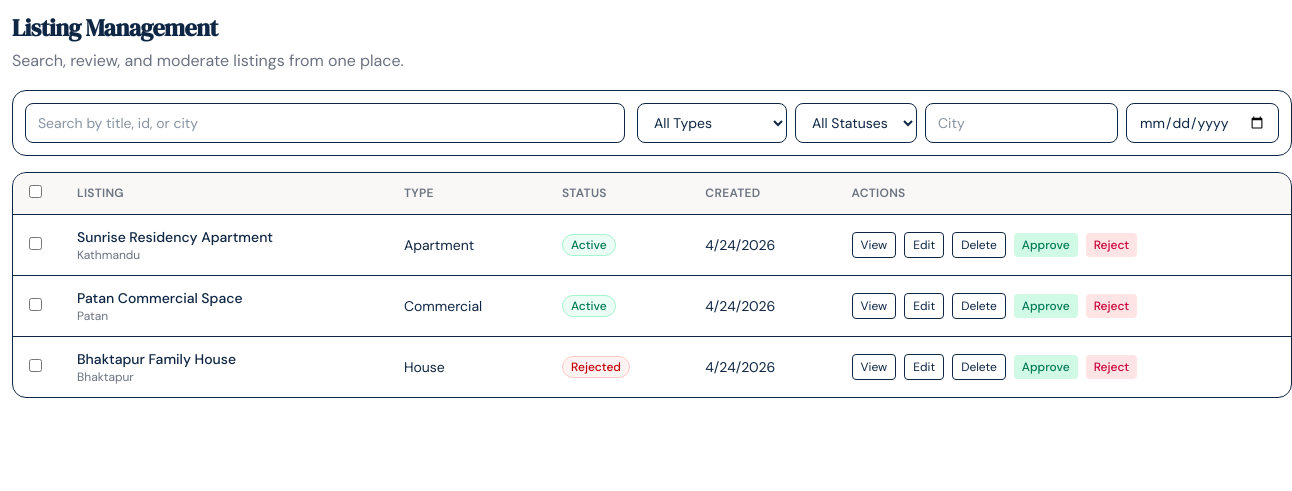
admin listings bulk actions › clears hidden-row selection when filters change
Click the checkbox named "select listing l1" at {"x": 36, "y": 243}, box left=29, top=237, right=42, bottom=250
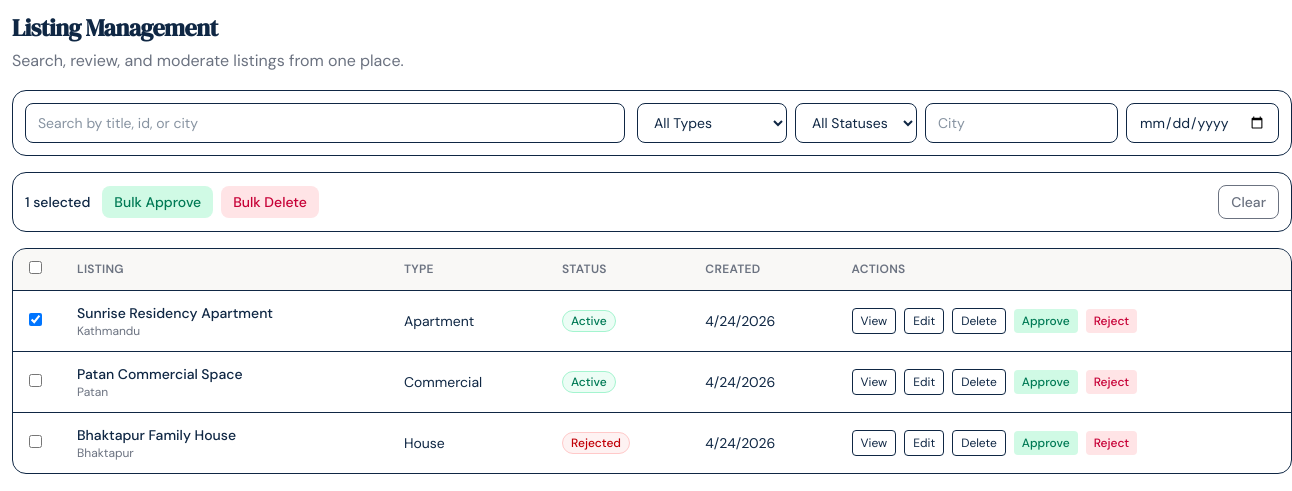
Check: the checkbox named "select listing l1" is checked, box left=29, top=313, right=42, bottom=326
Select "rejected" in the dropdown named "filter by status" at {"x": 856, "y": 123}, box left=795, top=103, right=917, bottom=143
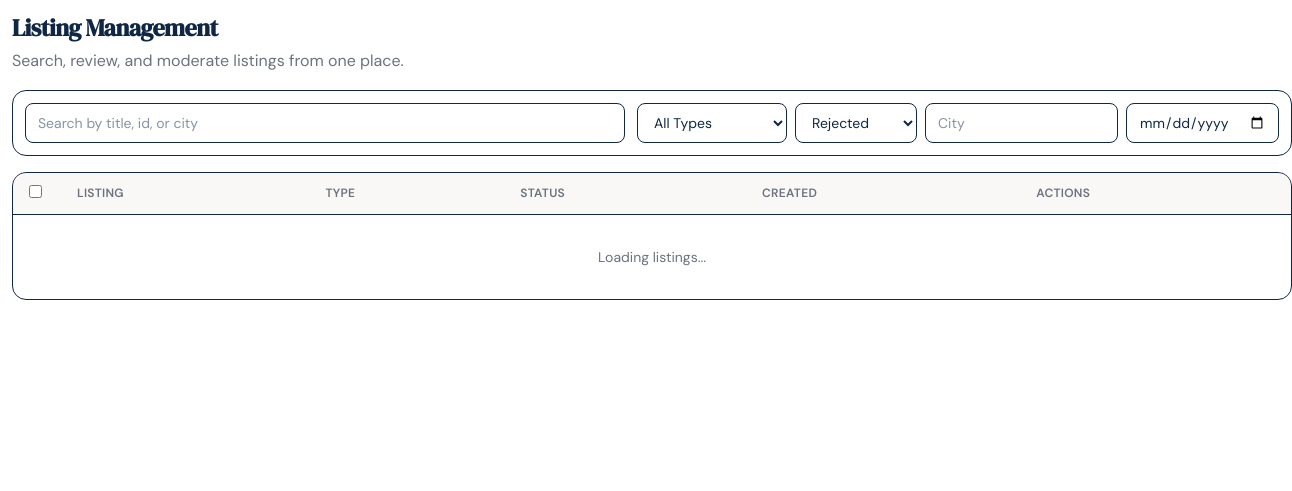
Check: the button "Bulk Approve" is gone
Select "All Statuses" in the dropdown named "filter by status" at {"x": 856, "y": 123}, box left=795, top=103, right=917, bottom=143
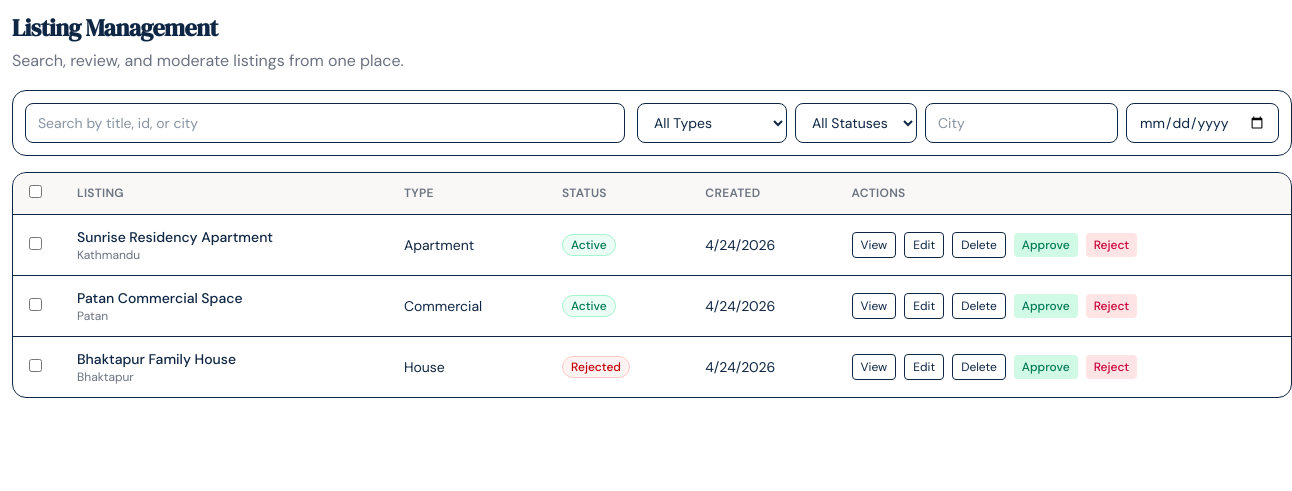
Check: the checkbox named "select listing l1" is not checked, box left=29, top=237, right=42, bottom=250
